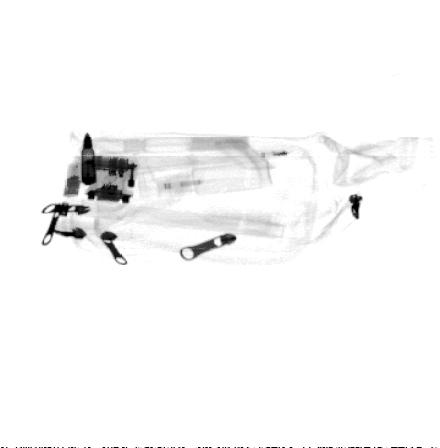Bullet: (80, 129, 99, 186)
